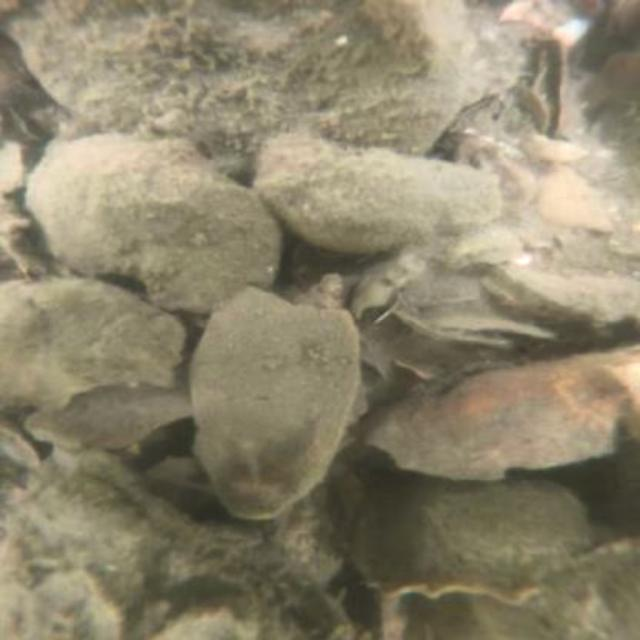Oyster-Closed: (0, 0, 480, 172), (24, 134, 288, 314), (187, 286, 364, 524), (343, 464, 593, 601), (251, 131, 510, 252), (0, 276, 180, 415), (360, 0, 449, 74)
Oyster-Open: (353, 338, 638, 562), (16, 375, 203, 485), (390, 307, 562, 355), (522, 26, 569, 144)
